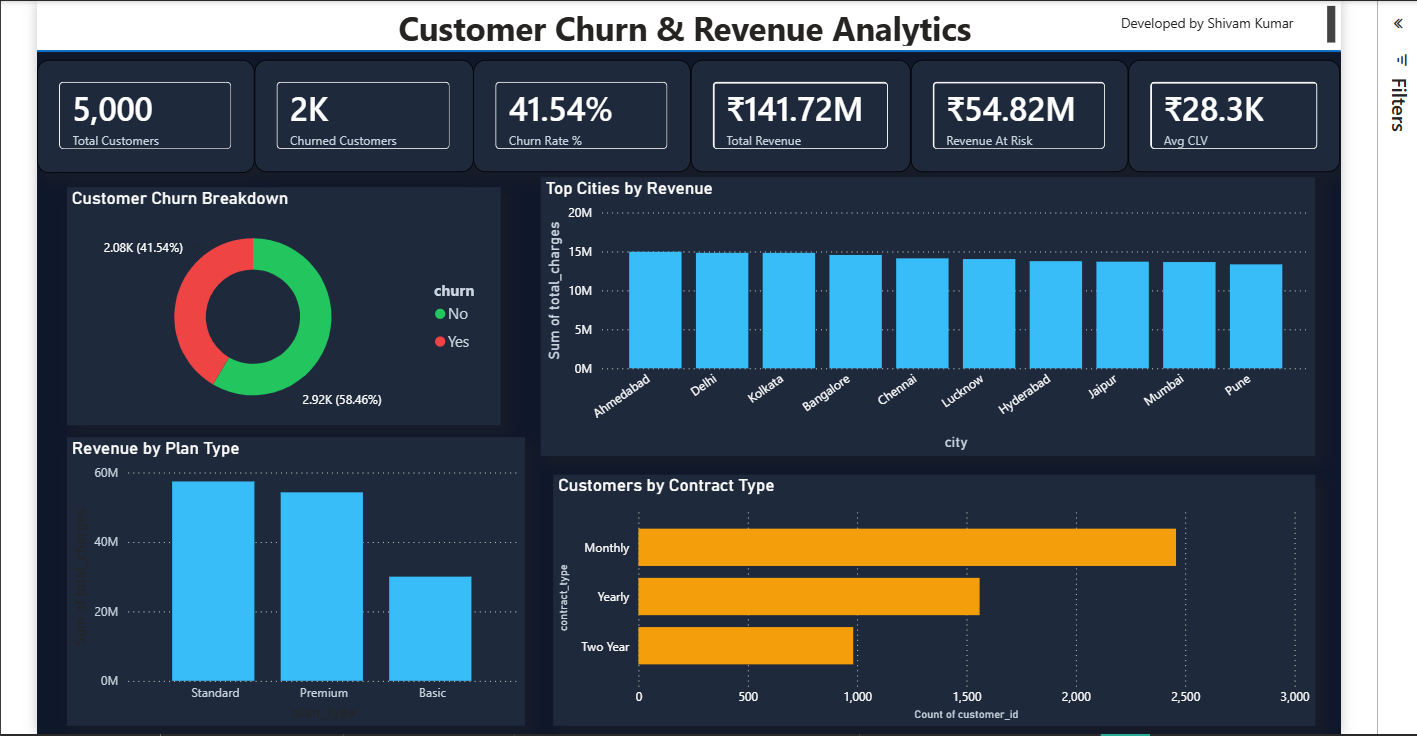

This screenshot's page, from the dashboard's own definition file:
{"tool":"powerbi","page":{"name":"Executive Overview","canvas":[1280,720],"ordinal":0},"visuals":[{"type":"textbox","box":[0,0,1279.7,49.3],"z":0},{"type":"shape","box":[0,41.9,1279.7,14.9],"z":1000},{"type":"cardVisual","fields":{"Data":["Measures .Total Customers"]},"box":[0,58.1,213.5,110.8],"z":2000},{"type":"cardVisual","fields":{"Data":["Measures .Churned Customers"]},"box":[213.6,58.1,214.9,110],"z":3000},{"type":"cardVisual","fields":{"Data":["Measures .Churn Rate %"]},"box":[428.5,58.1,213.2,110],"z":4000},{"type":"cardVisual","fields":{"Data":["Measures .Total Revenue"]},"box":[641.8,58.1,216.2,110.3],"z":5000},{"type":"cardVisual","fields":{"Data":["Measures .Revenue At Risk"]},"box":[858,58.1,213.5,110],"z":6000},{"type":"cardVisual","fields":{"Data":["Measures .Avg CLV"]},"box":[1071.6,58.1,208.1,110],"z":7000},{"type":"donutChart","title":"Customer Churn Breakdown","fields":{"Category":["customers.churn"],"Y":["CountNonNull(customers.customer_id)"]},"box":[29.6,183.1,425.4,233.8],"z":8000},{"type":"clusteredColumnChart","title":"Revenue by Plan Type","fields":{"Category":["customers.plan_type"],"Y":["Sum(customers.total_charges)"]},"box":[29.6,428.2,449.3,283.1],"z":9000},{"type":"clusteredBarChart","title":"Customers by Contract Type","fields":{"Category":["customers.contract_type"],"Y":["CountNonNull(customers.customer_id)"]},"box":[507,464.8,747.9,246.5],"z":10000},{"type":"columnChart","title":"Top Cities by Revenue","fields":{"Category":["customers.city"],"Y":["Sum(customers.total_charges)"]},"box":[494.1,173.5,760.3,273.5],"z":11000},{"type":"textbox","box":[1058.9,7.4,196.3,34.4],"z":11001}]}

Visuals, with their boxes on the page's 1280x720 design canvas (x1, y1, x2, y2). These are canvas units, not pixel positions in the 1417x736 screenshot, which may show the page scaled, cropped or inside an application window:
textbox: pyautogui.locateOnScreen(0, 0, 1280, 49)
shape: pyautogui.locateOnScreen(0, 42, 1280, 57)
cardVisual - Measures .Total Customers: pyautogui.locateOnScreen(0, 58, 214, 169)
cardVisual - Measures .Churned Customers: pyautogui.locateOnScreen(214, 58, 428, 168)
cardVisual - Measures .Churn Rate %: pyautogui.locateOnScreen(428, 58, 642, 168)
cardVisual - Measures .Total Revenue: pyautogui.locateOnScreen(642, 58, 858, 168)
cardVisual - Measures .Revenue At Risk: pyautogui.locateOnScreen(858, 58, 1072, 168)
cardVisual - Measures .Avg CLV: pyautogui.locateOnScreen(1072, 58, 1280, 168)
"Customer Churn Breakdown" donutChart: pyautogui.locateOnScreen(30, 183, 455, 417)
"Revenue by Plan Type" clusteredColumnChart: pyautogui.locateOnScreen(30, 428, 479, 711)
"Customers by Contract Type" clusteredBarChart: pyautogui.locateOnScreen(507, 465, 1255, 711)
"Top Cities by Revenue" columnChart: pyautogui.locateOnScreen(494, 174, 1254, 447)
textbox: pyautogui.locateOnScreen(1059, 7, 1255, 42)
